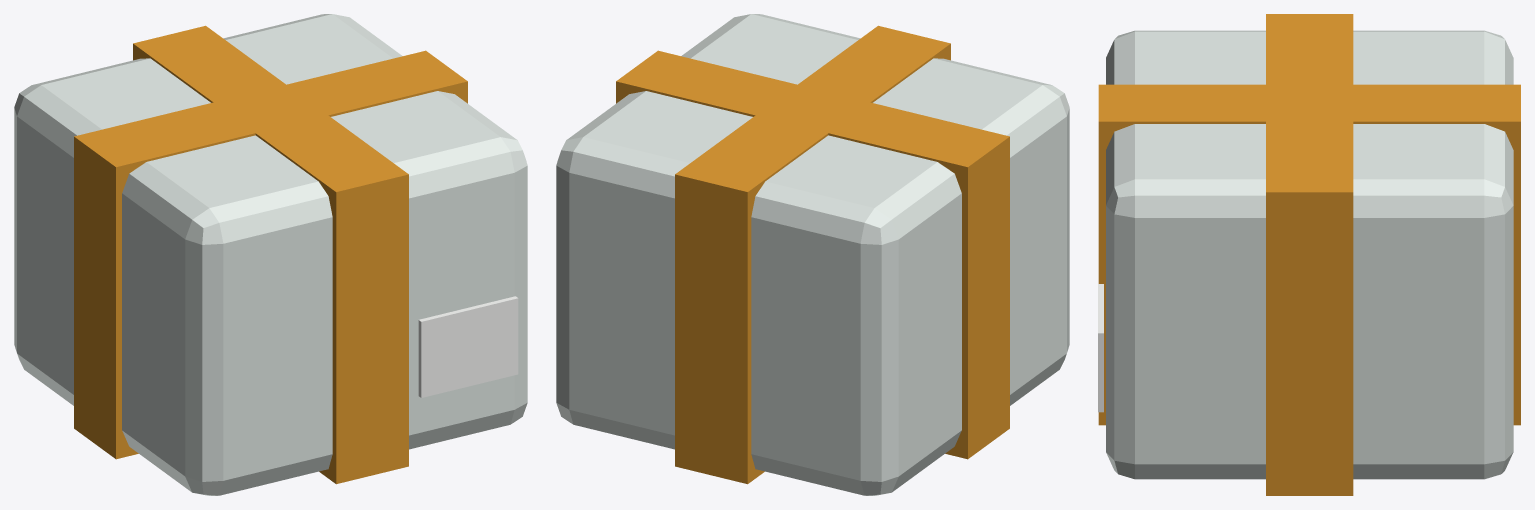
The model's file is parcel.glb.
The picture shows the model from 3 angles, left to right: view 1: azimuth 30°, elevation 25°; view 2: azimuth 150°, elevation 25°; view 3: azimuth 270°, elevation 25°; orthographic projection. The views are drawn at different scales.
Parts seen in each view (by area): view 1: parcel_box, parcel_tape_top, parcel_tape, parcel_label; view 2: parcel_box, parcel_tape_top, parcel_tape; view 3: parcel_box, parcel_tape, parcel_tape_top, parcel_label.
Boxes of the visible parts, x1,y1,x2,y2 form: parcel_box: [14, 14, 527, 495]; parcel_tape_top: [133, 25, 408, 484]; parcel_tape: [74, 50, 467, 459]; parcel_label: [418, 296, 518, 397]; parcel_box: [556, 14, 1069, 495]; parcel_tape_top: [675, 25, 950, 484]; parcel_tape: [616, 50, 1009, 459]; parcel_box: [1106, 30, 1513, 479]; parcel_tape: [1266, 14, 1353, 495]; parcel_tape_top: [1098, 84, 1520, 425]; parcel_label: [1098, 284, 1103, 412].
Bounding box in the file's own units: 0.435 × 0.345 × 0.4355.
